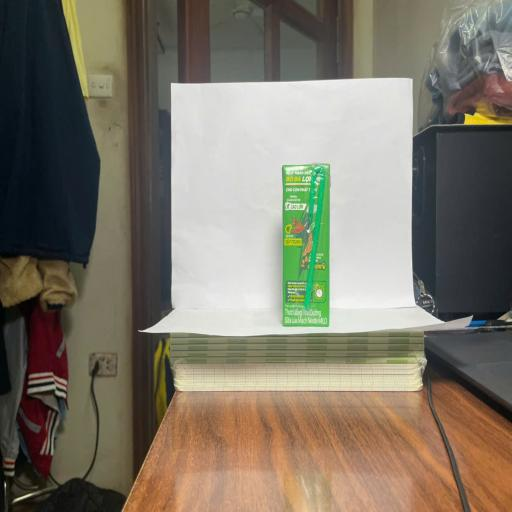milo: (282, 162, 330, 328)
